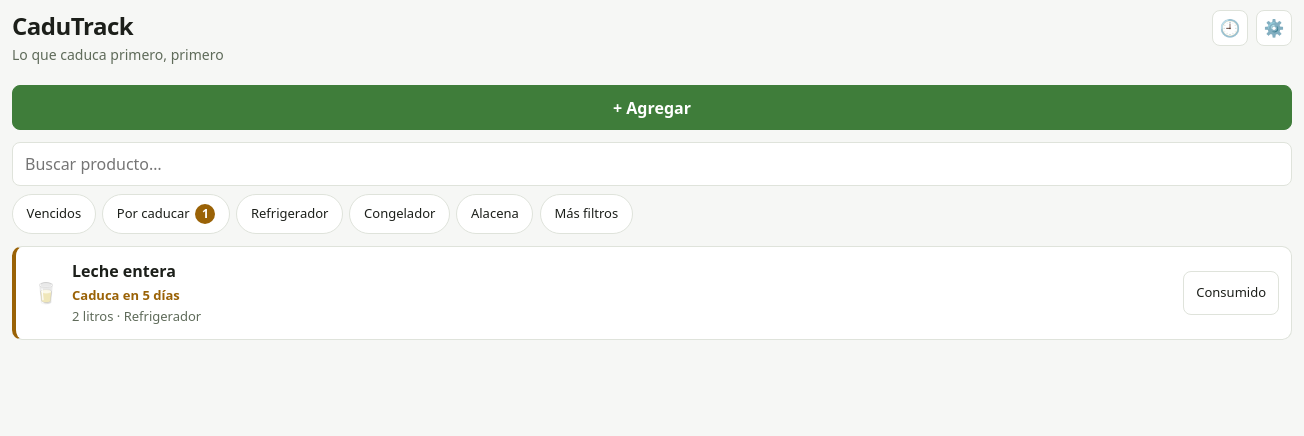
Test: ProductList › labels a product with no category instead of leaving a gap
This screenshot has width=1304, height=436.
Click the button "Leche entera Caduca en 5 días 2 litros · Refrigerador".
click(124, 271)  # box [72,255,1179,331]
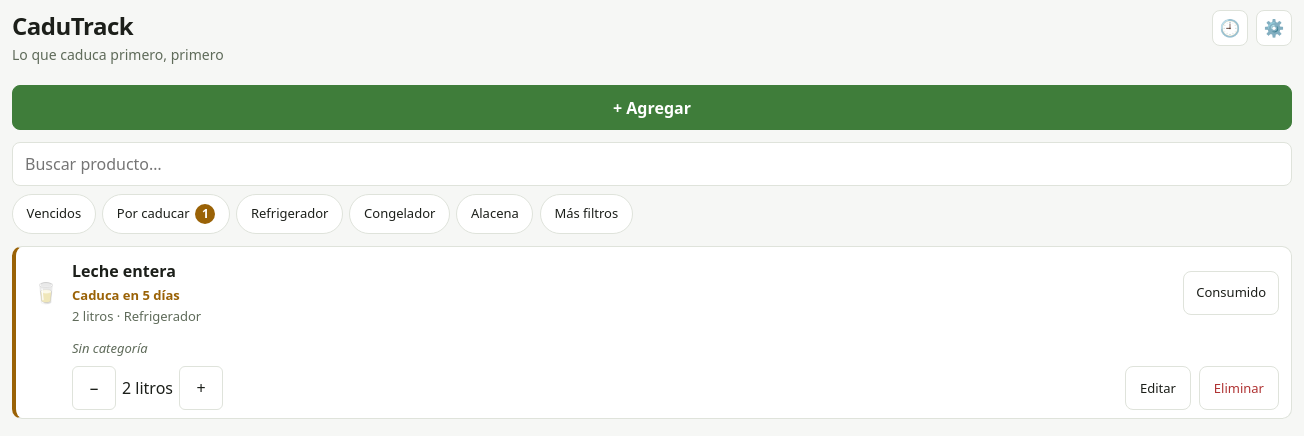
Expected: the text "Sin categoría" is shown, [72,339,148,358]
